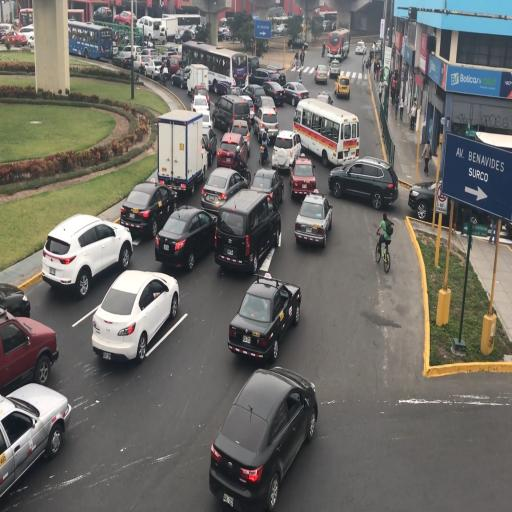auto: (208, 367, 316, 510), (2, 383, 72, 507), (90, 269, 178, 362), (42, 210, 130, 294), (227, 276, 301, 364), (214, 186, 280, 274), (1, 303, 59, 398), (154, 204, 216, 273), (330, 156, 392, 209), (121, 179, 176, 237), (202, 164, 249, 215), (294, 191, 332, 251), (408, 178, 448, 223), (213, 93, 252, 136), (250, 165, 284, 210), (216, 130, 250, 169), (271, 128, 300, 170), (289, 155, 316, 199), (0, 282, 31, 319), (253, 104, 278, 143), (244, 83, 272, 113), (282, 81, 310, 107), (260, 79, 286, 106), (250, 67, 281, 88), (116, 45, 141, 67), (143, 57, 165, 80), (192, 93, 210, 120), (171, 66, 191, 90), (1, 30, 27, 47), (166, 55, 184, 78), (334, 74, 350, 98), (114, 10, 136, 26), (138, 54, 154, 74), (314, 63, 329, 84), (93, 6, 112, 22), (329, 59, 341, 78), (316, 90, 331, 103), (357, 39, 366, 52)
bus: (294, 97, 355, 165), (183, 41, 246, 91), (68, 21, 113, 61), (163, 13, 201, 42), (328, 28, 350, 62), (138, 15, 164, 41), (18, 8, 34, 29), (66, 9, 85, 25)
camion: (157, 108, 206, 200), (186, 63, 209, 100)
moto: (259, 140, 270, 166), (300, 48, 306, 70), (322, 46, 326, 58)
